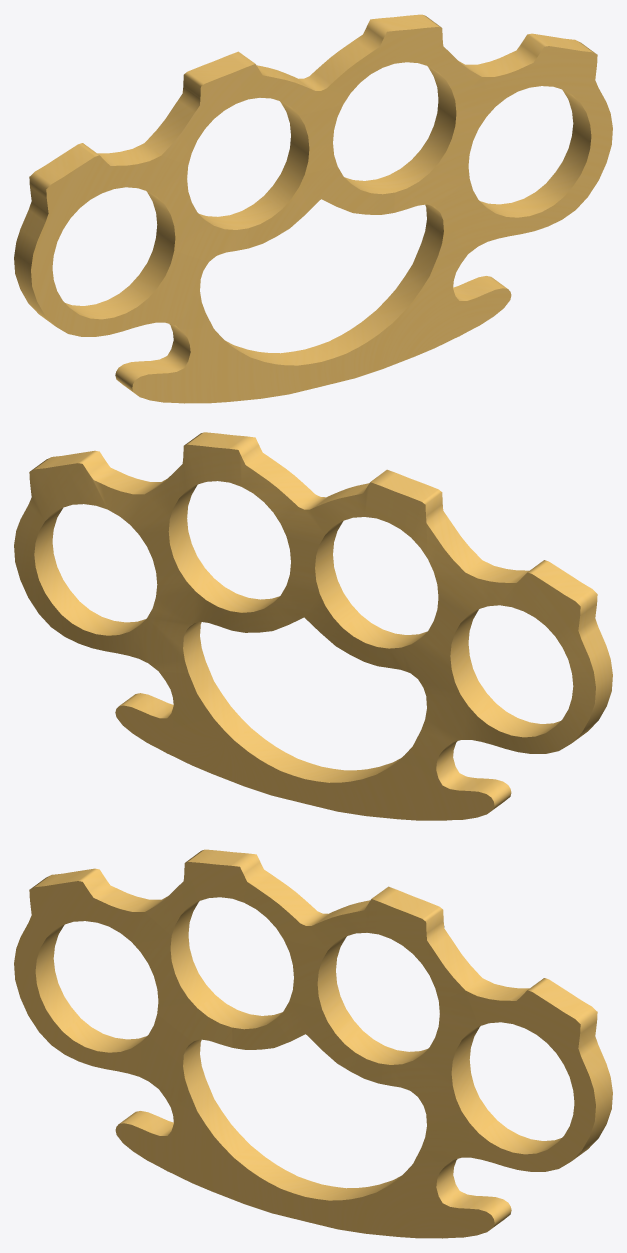
The model's file is knuckle.glb.
3 views of the same model, one above another, from view 1: azimuth 30°, elevation 25°; view 2: azimuth 150°, elevation 25°; view 3: azimuth 330°, elevation 25° (orthographic).
Parts seen in each view (by area): view 1: Object_2; view 2: Object_2; view 3: Object_2.
Boxes of the visible parts, left/top/right/bottom form: Object_2: left=14, top=14, right=612, bottom=403; Object_2: left=14, top=432, right=612, bottom=820; Object_2: left=14, top=849, right=612, bottom=1238.
Bounding box in the file's own units: 3.87 × 2.15 × 0.2188.
1 material, 1 textured.
